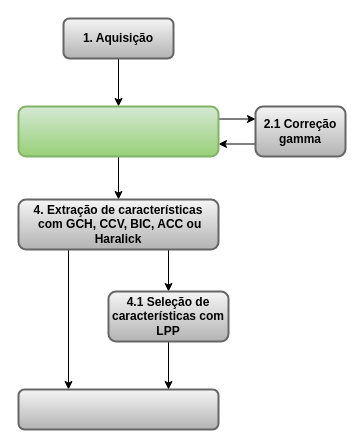
Image size: 363x447. Some labels were removed from this diagram. Each missing label, with the box of its shape:
2. Quantização com Luminância, Intensidade', Gleam ou MSB: (17, 105, 219, 157)
5. Classificação com SVM: (17, 388, 219, 430)
